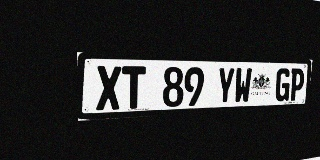8: (162, 67, 184, 107)
9: (184, 67, 204, 106)
G: (274, 68, 291, 102)
P: (289, 68, 305, 101)
T: (122, 66, 146, 109)
W: (234, 68, 252, 104)
X: (96, 66, 121, 111)
Y: (216, 67, 235, 105)
